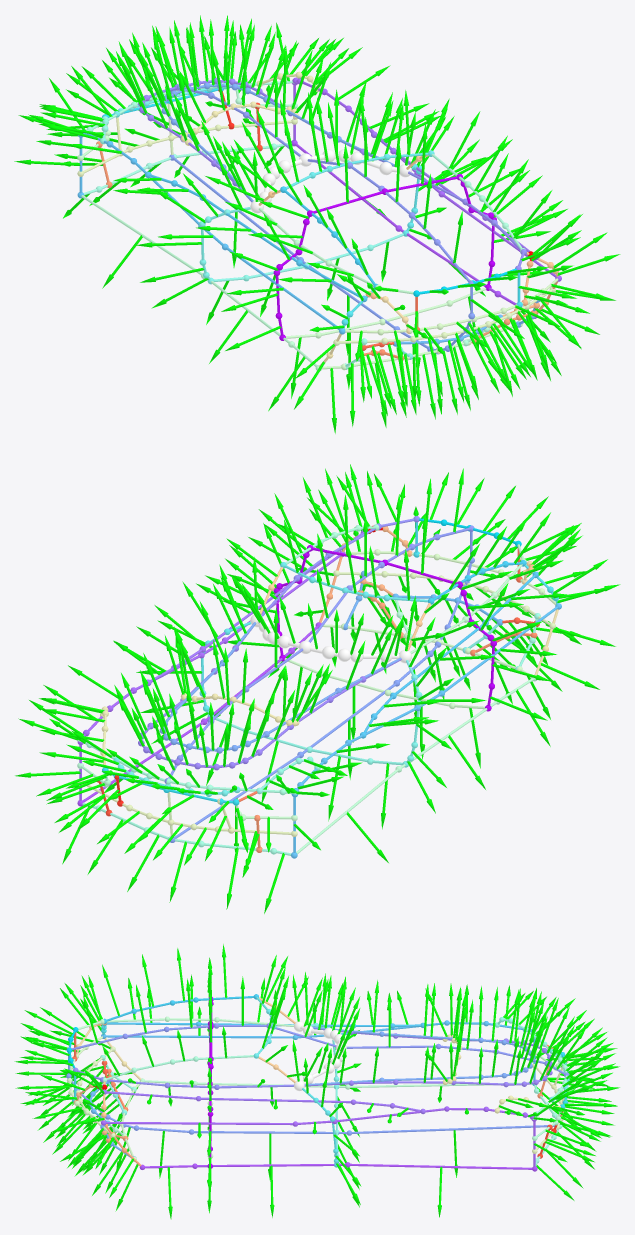
The model's file is t2f_car_93.gltf.
The picture shows the model from 3 angles, top to bottom: view 1: azimuth 30°, elevation 25°; view 2: azimuth 150°, elevation 25°; view 3: azimuth 270°, elevation 25°; orthographic projection. The views are drawn at different scales.
Size of the model in its own units: 0.5688 by 0.413 by 1.1.
